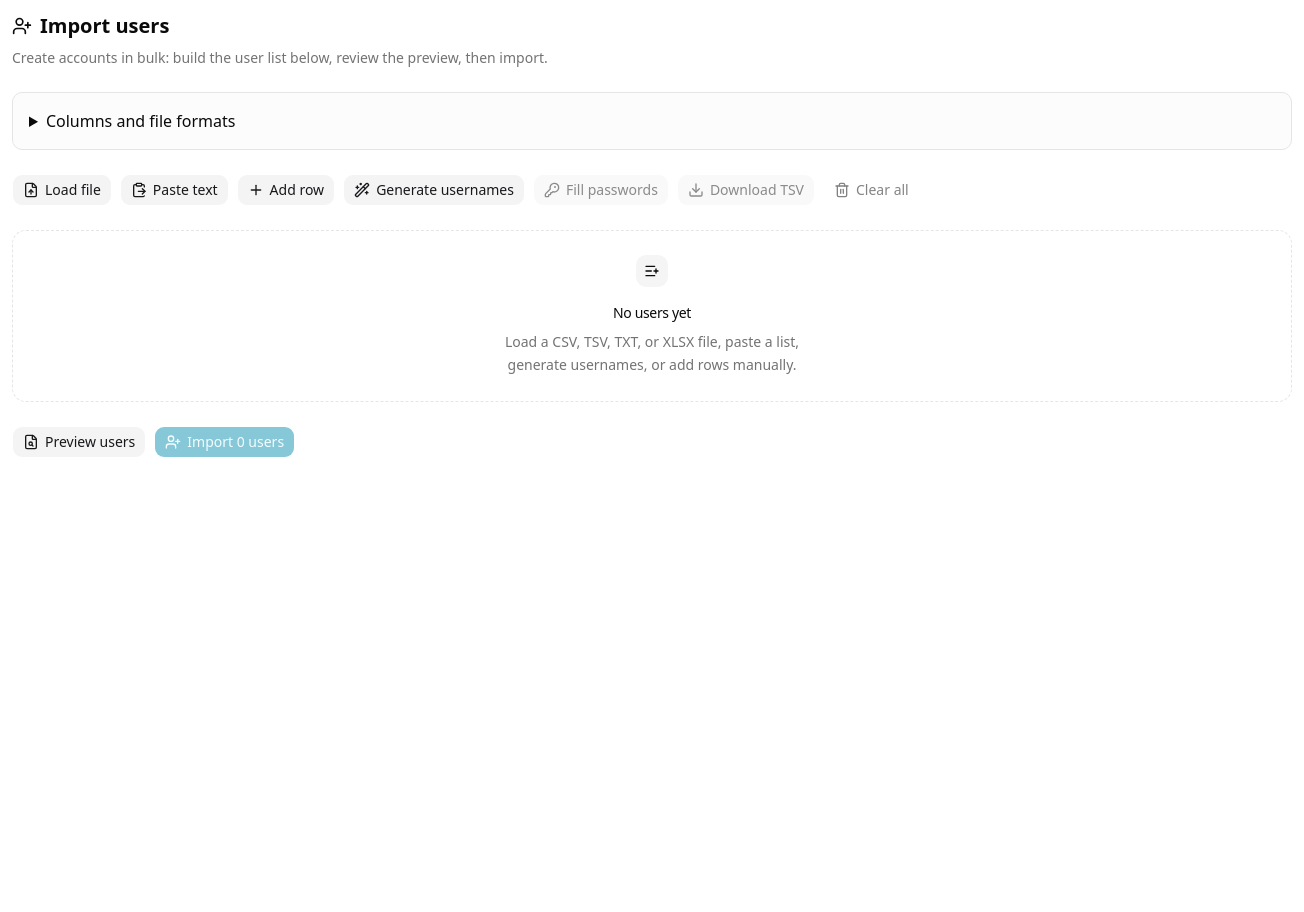
Test case: user import workflow › warns about missing required fields but still previews
Click the button "Add row": coordinates (286, 190) x1=237 y1=174 x2=335 y2=206
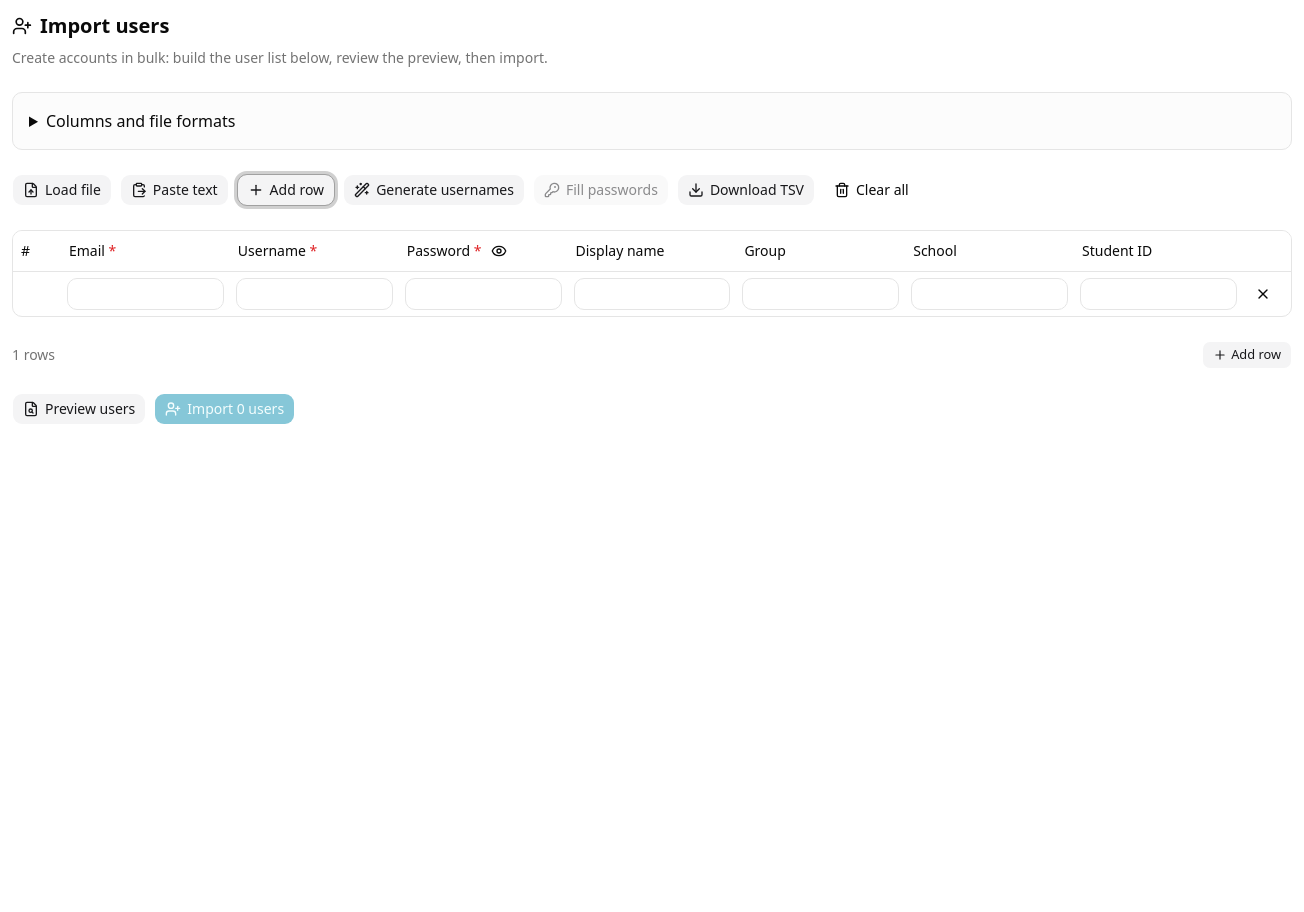
In the field named "Row 1 Username": coordinates (314, 294) x1=236 y1=278 x2=393 y2=310, type "alice"
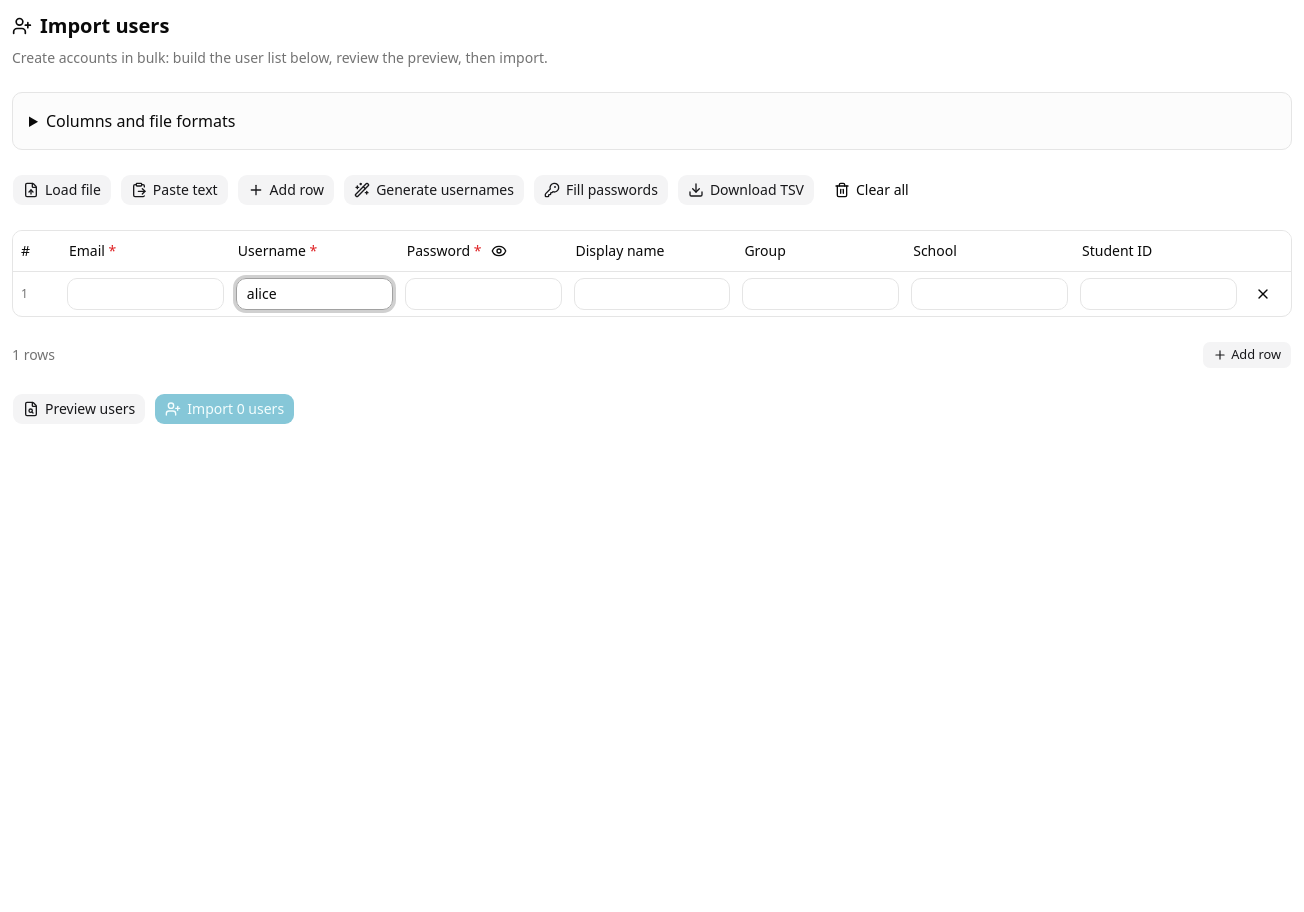
Click the button "Preview users": coordinates (79, 408) x1=12 y1=392 x2=146 y2=424
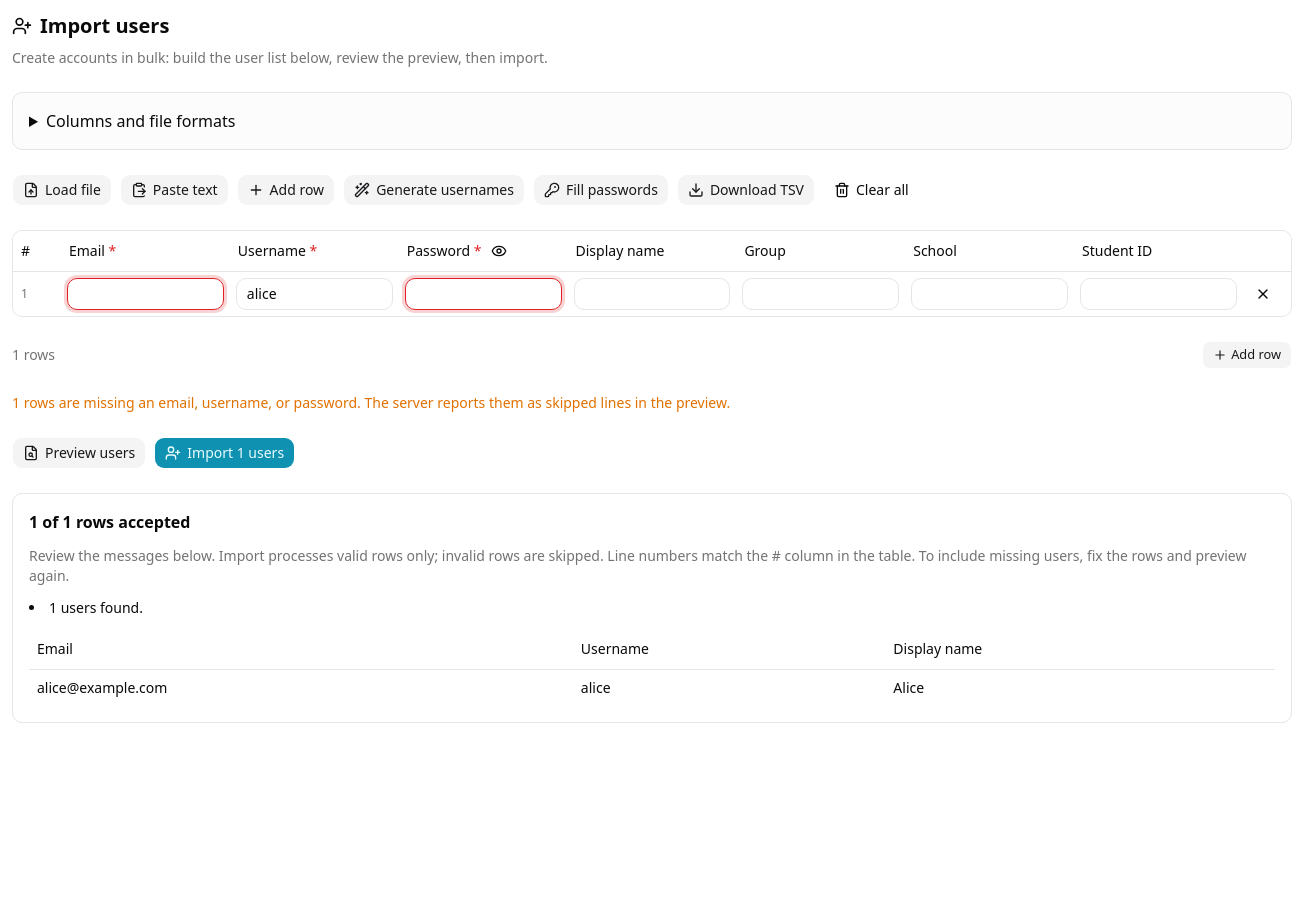
Now the text "missing an email, username, or password" is shown, box x1=12 y1=392 x2=730 y2=412
Now the element named "Import preview" is shown, box x1=12 y1=492 x2=1292 y2=723
